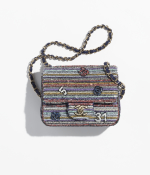channel: (21, 32, 140, 134), (46, 39, 110, 59), (70, 102, 95, 120)
